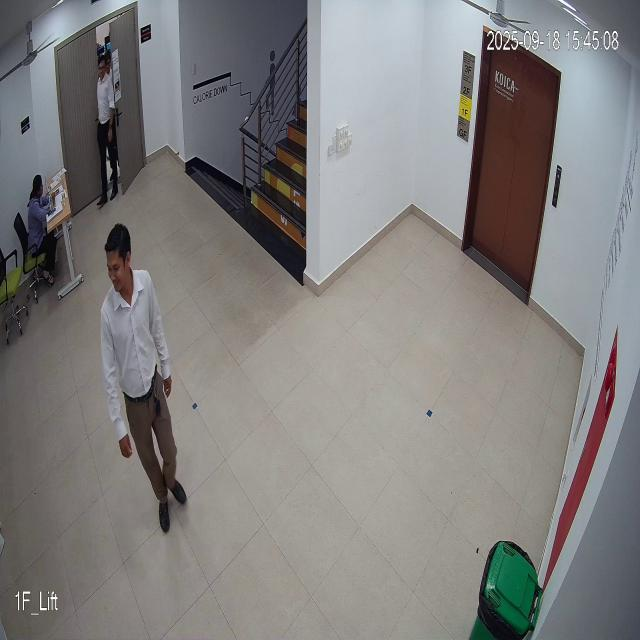face: (100, 222, 136, 294)
